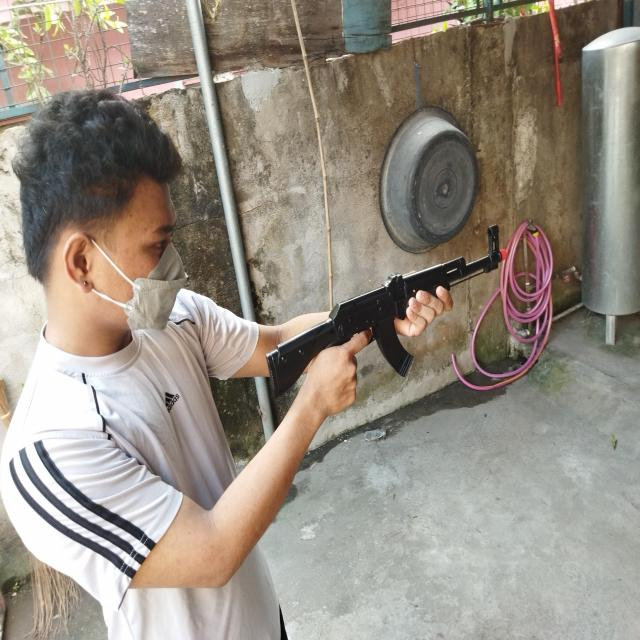rifle: (266, 224, 506, 397)
